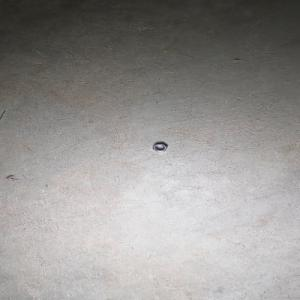Nut: (152, 143, 168, 152)
